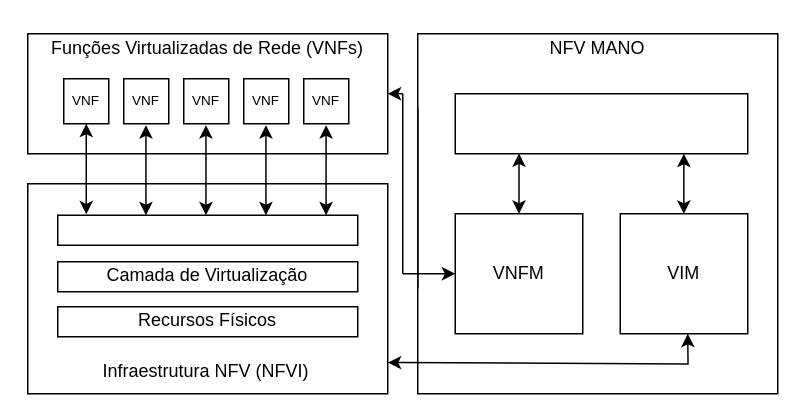
Some shapes in this 804 by 420 pixel diagram are drawn without their labels. The box of each missing label's shape, as (x1, y1, x2, y2) in pixels:
NFVO: (454, 92, 748, 154)
Recursos Virtuais: (56, 214, 358, 245)
